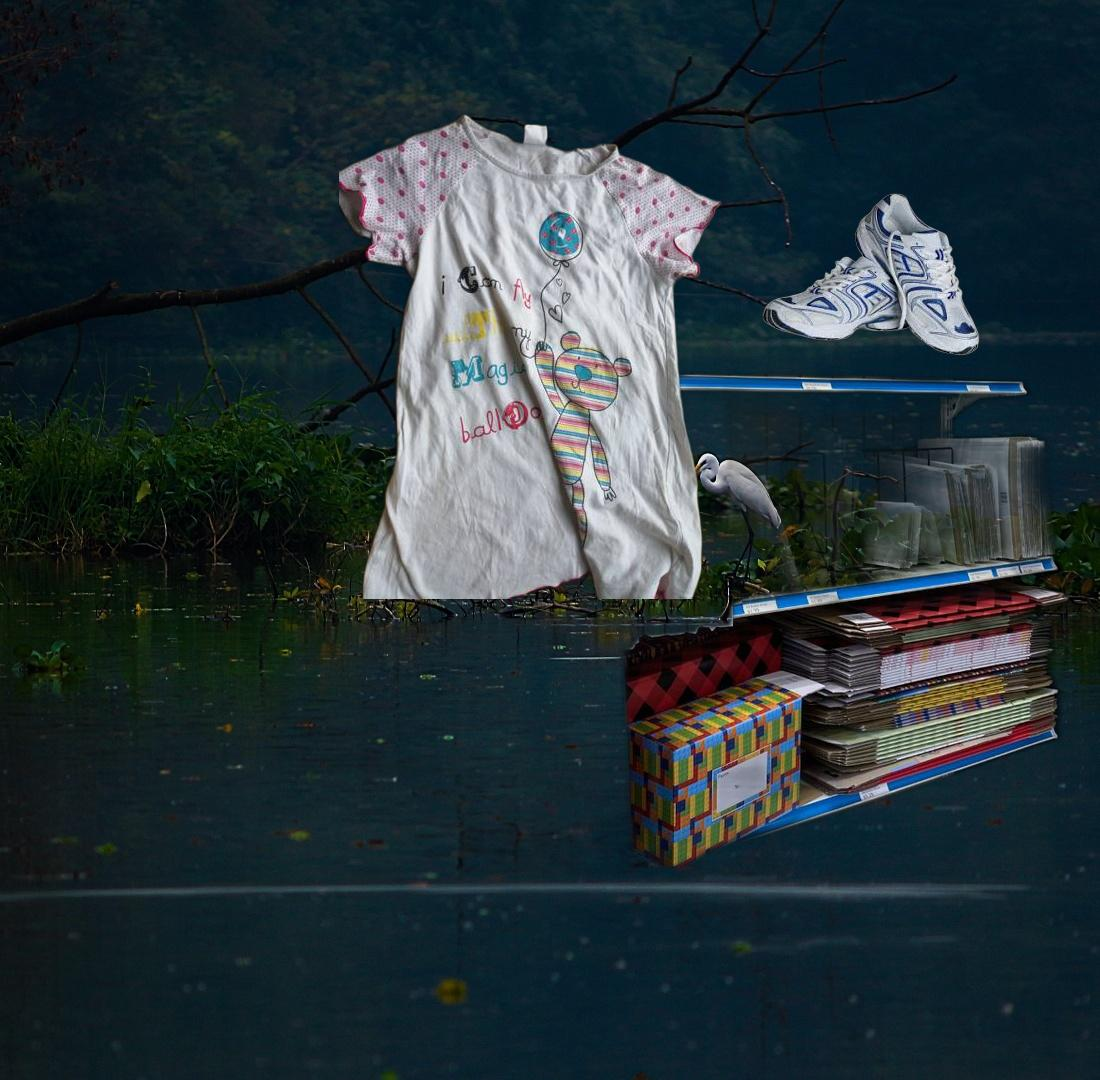clothes: (339, 109, 724, 599)
plastic-bottles: (532, 1065, 662, 1080)
shoes: (760, 191, 982, 358)
trashbox-cardboard: (236, 367, 1080, 868)
